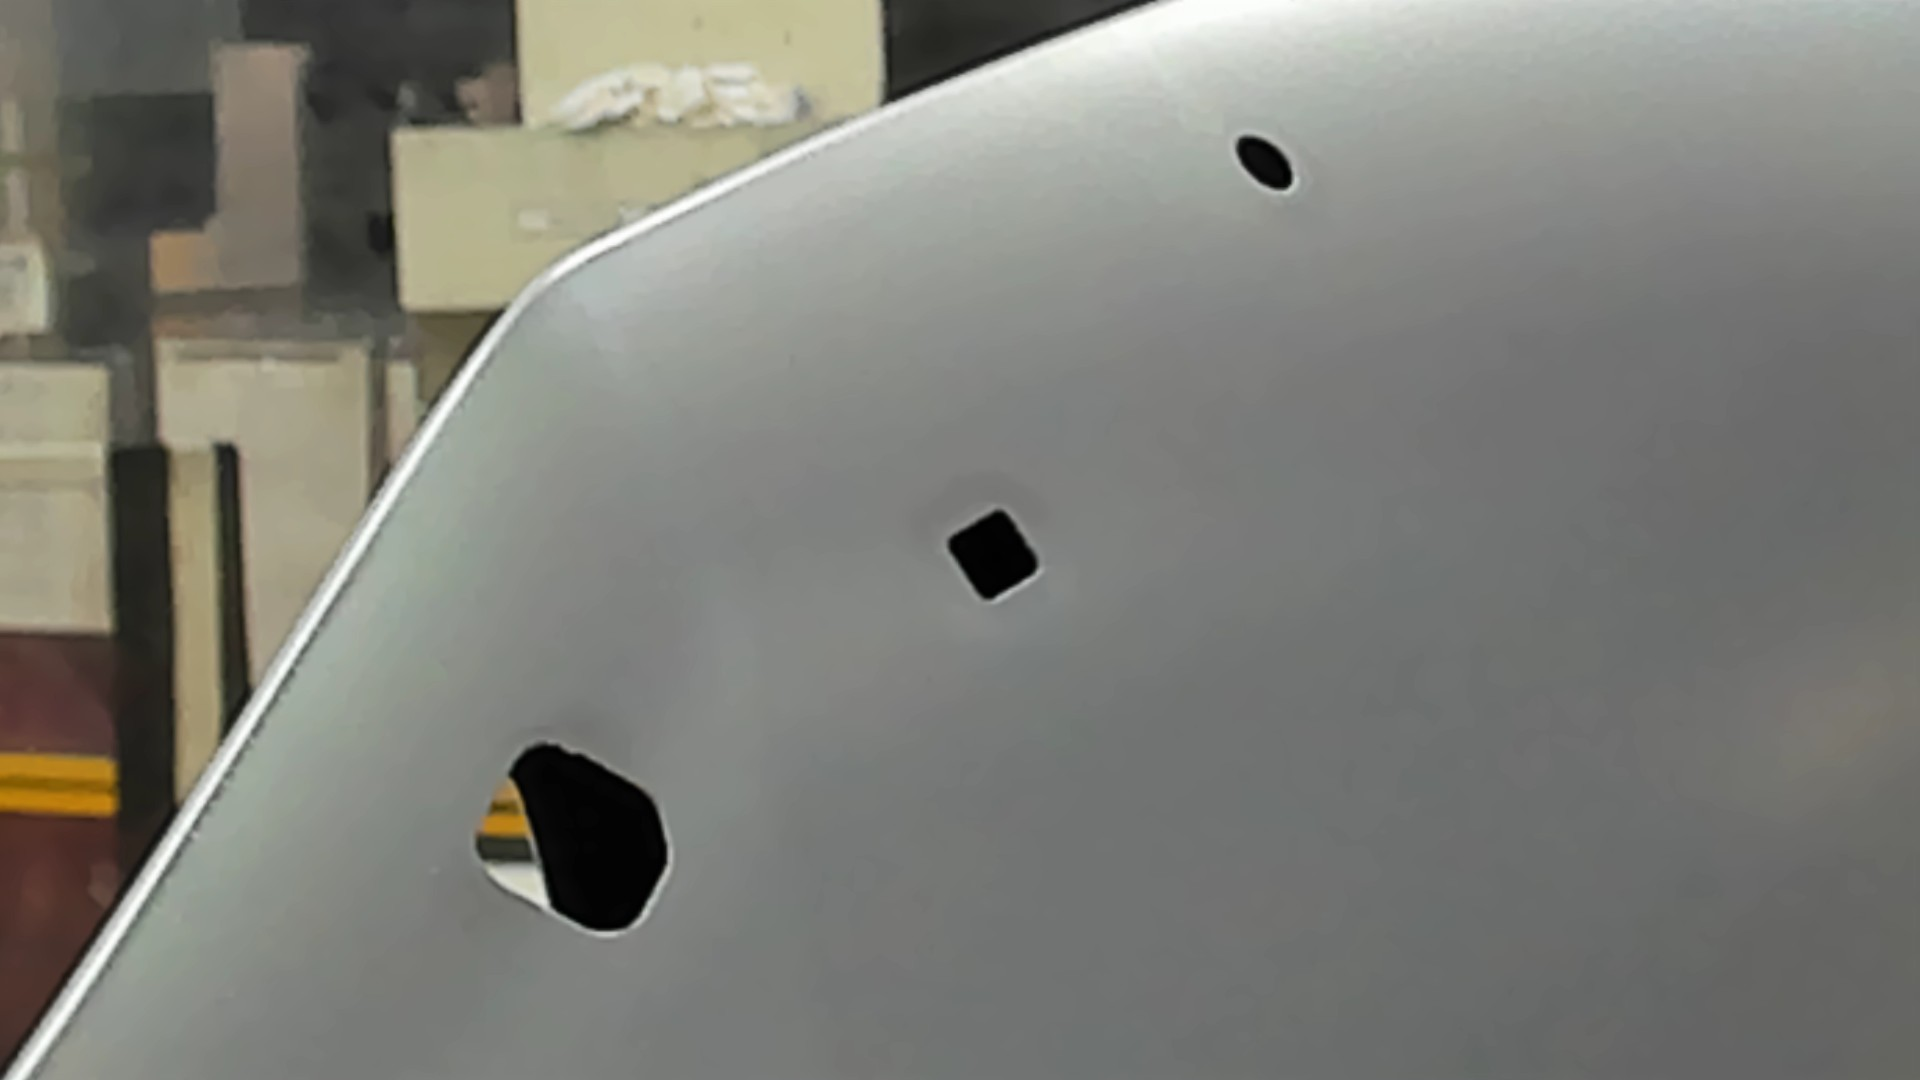capo: (1054, 200, 1920, 1080)
chico: (1229, 127, 1298, 196)
grande: (465, 736, 678, 942)
mediano: (939, 505, 1044, 605)
